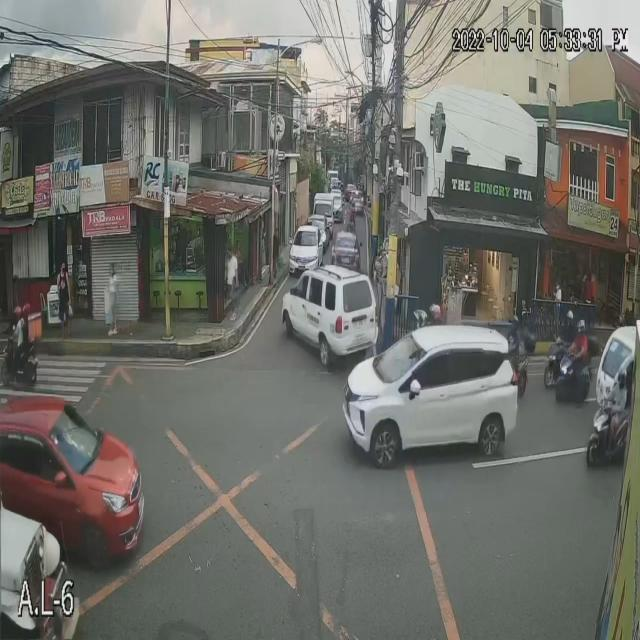half: (413, 308, 427, 328), (428, 302, 442, 322)
not_wearing: (507, 329, 515, 348)
